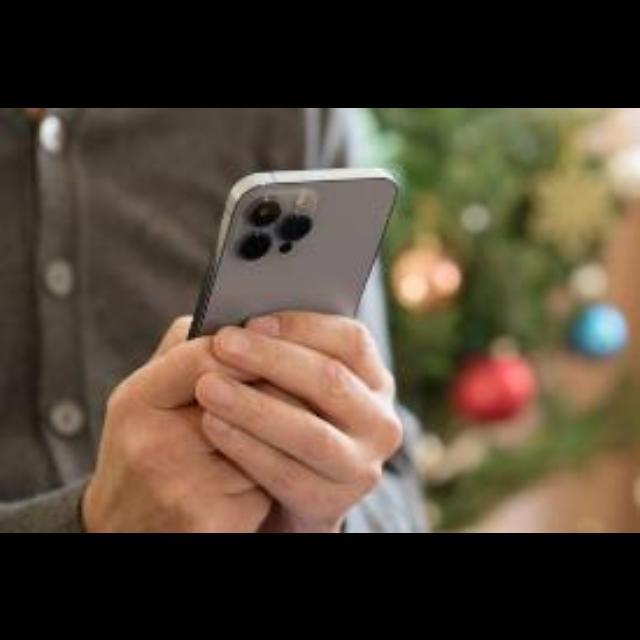Phone: (186, 168, 397, 414)
